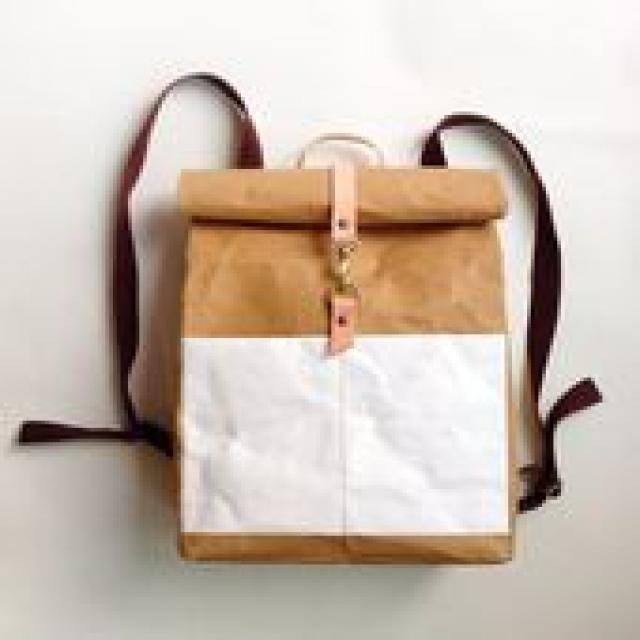backpack: (137, 141, 545, 577)
